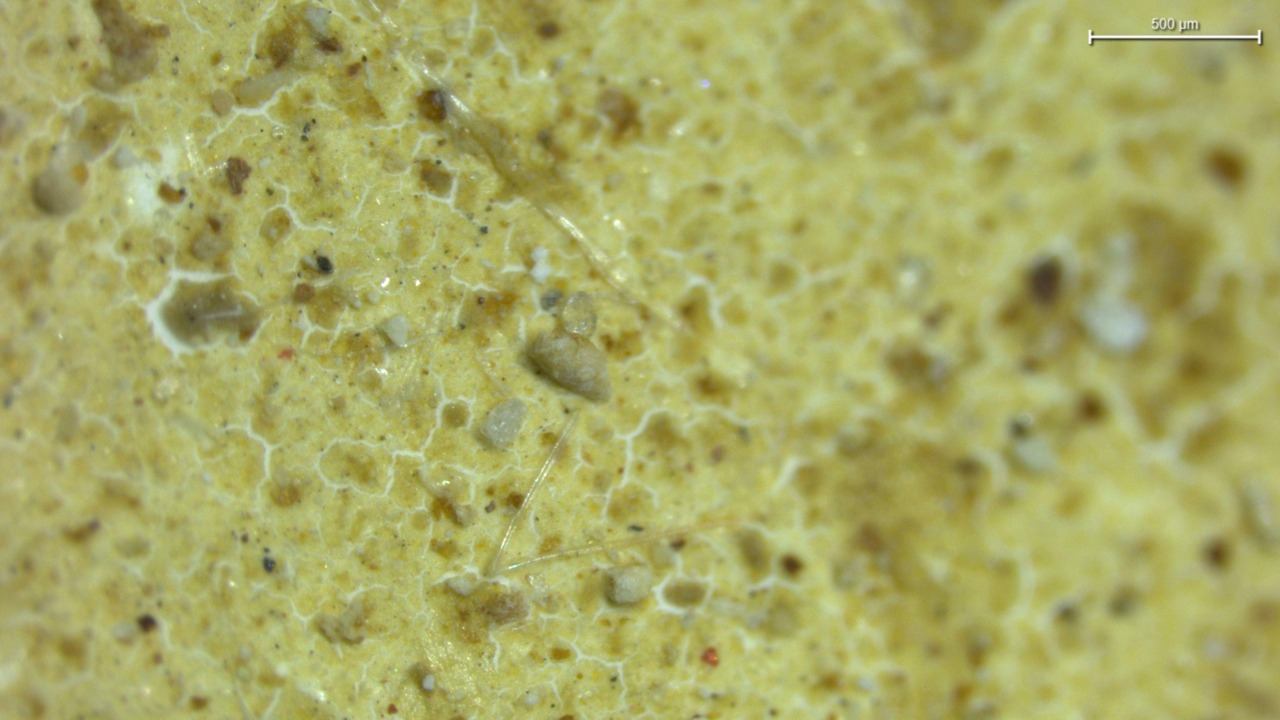microplastic_fragment: (527, 329, 610, 400), (479, 398, 526, 449), (606, 566, 652, 605)
